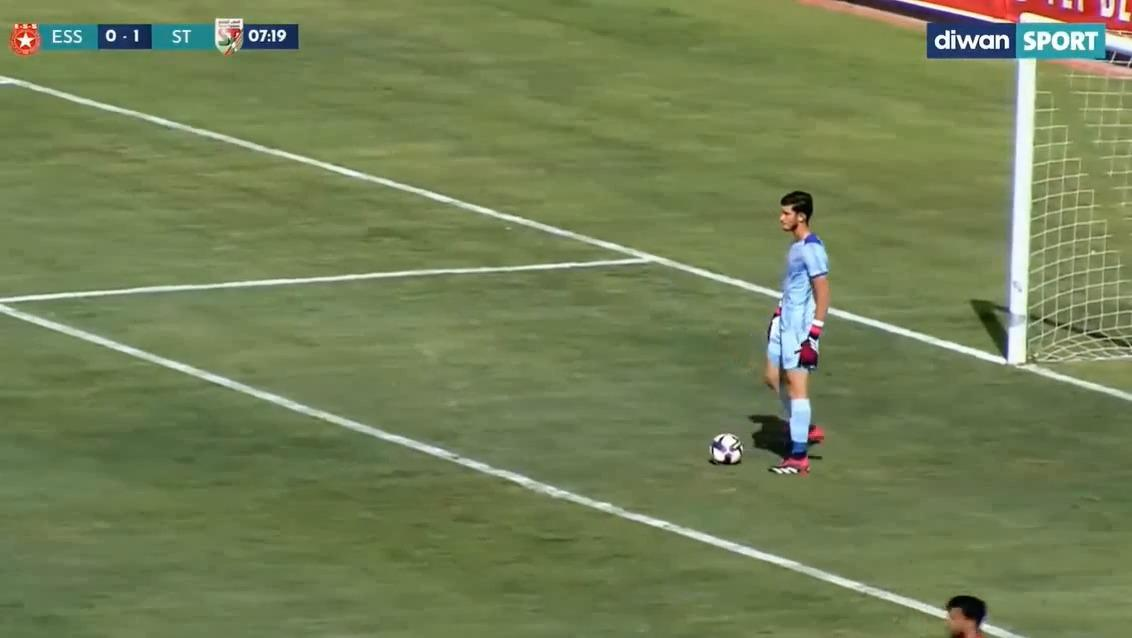ball: (685, 415, 749, 470)
goalkeeper: (738, 187, 864, 485)
